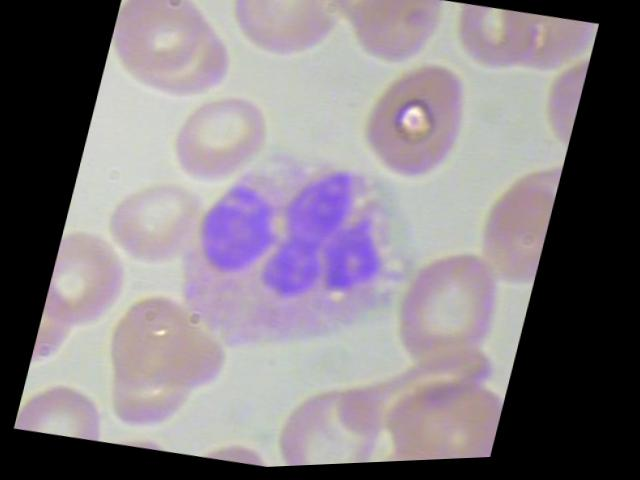Red Blood Cells: (345, 42, 491, 207), (391, 237, 515, 389), (166, 84, 279, 198), (101, 0, 222, 103), (99, 176, 211, 277), (219, 0, 354, 81), (279, 379, 399, 468), (19, 359, 129, 446), (181, 426, 301, 472)
White Blood Cells: (164, 120, 442, 386)
